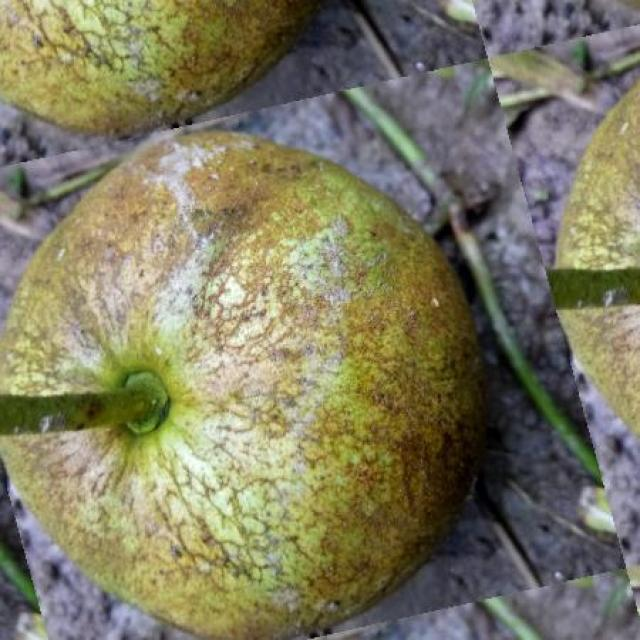Scab: (0, 132, 484, 639), (551, 81, 640, 436)
